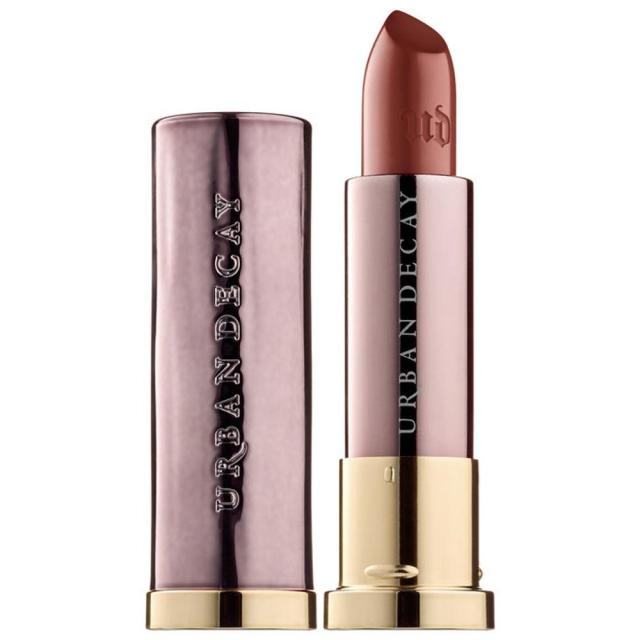lipstick: (336, 0, 494, 640)
